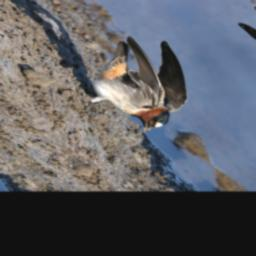Swallow: (36, 30, 230, 140)
